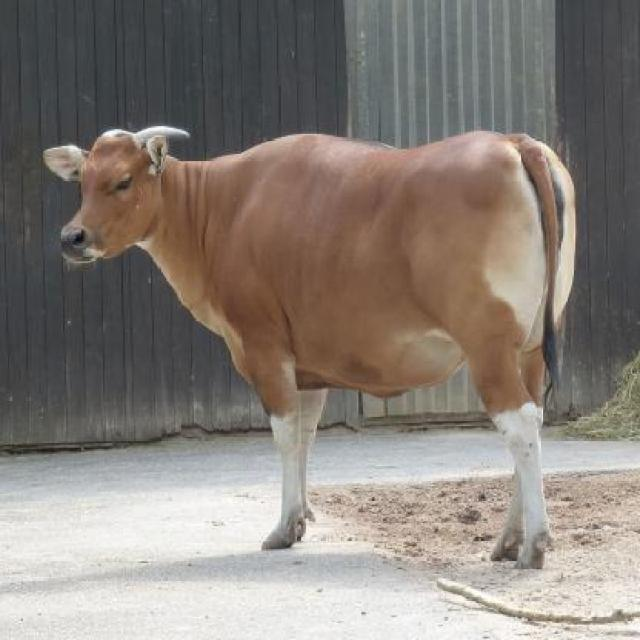Cow: (41, 126, 577, 571)
